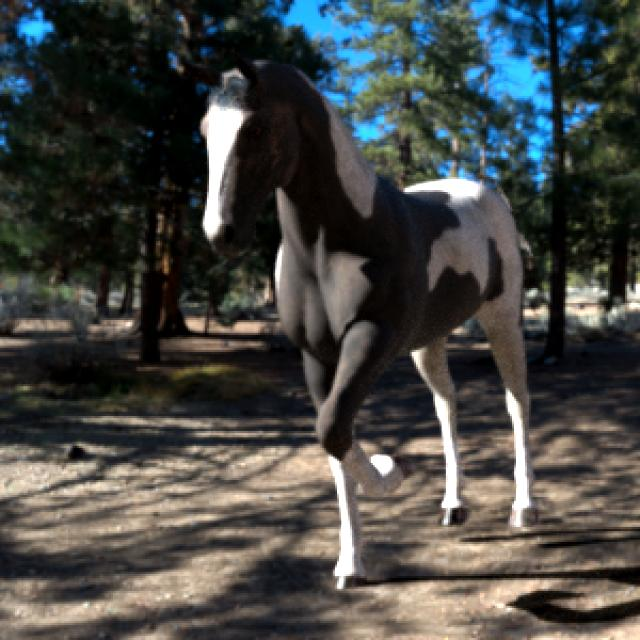horse: (201, 61, 535, 583)
